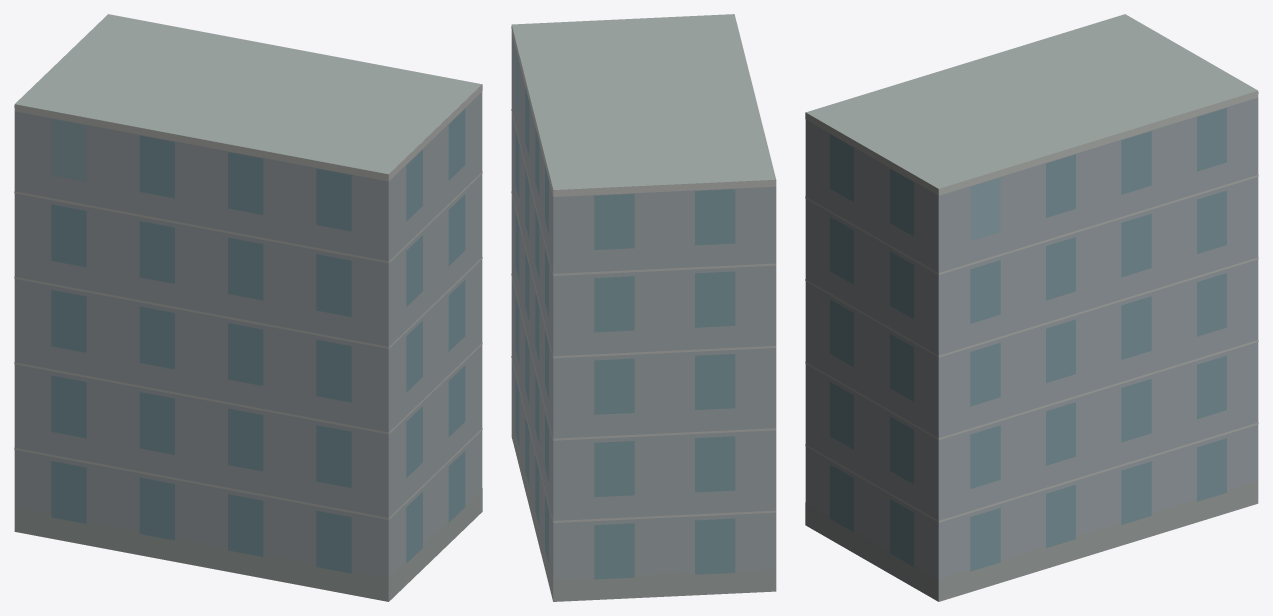
The model's file is survey-upis-32687723.glb.
The picture shows the model from 3 angles, left to right: view 1: azimuth 30°, elevation 25°; view 2: azimuth 150°, elevation 25°; view 3: azimuth 270°, elevation 25°; orthographic projection. The views are drawn at different scales.
Parts seen in each view (by area): view 1: survey-upis-32687723.tmp; view 2: survey-upis-32687723.tmp; view 3: survey-upis-32687723.tmp.
Part boxes in pixels (bbox=[...]): survey-upis-32687723.tmp: bbox=[14, 14, 482, 601]; survey-upis-32687723.tmp: bbox=[511, 14, 776, 601]; survey-upis-32687723.tmp: bbox=[805, 14, 1258, 601].
Size of the model in its own units: 13.29 by 14.6 by 14.53.
